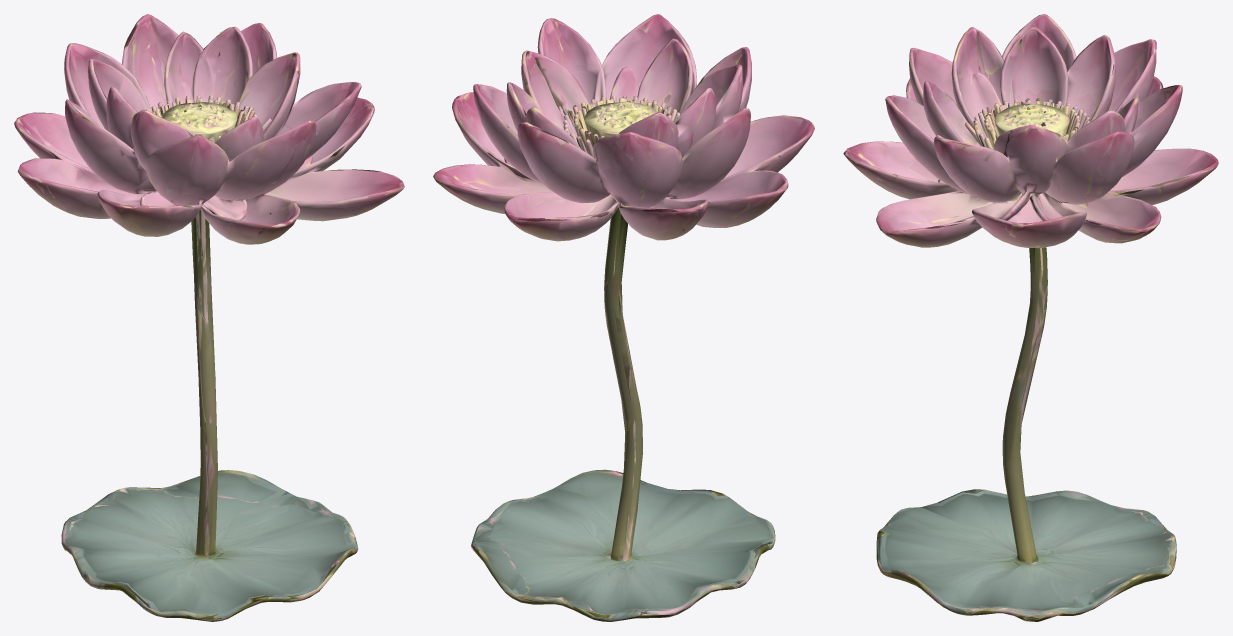
The model's file is lotus-compressed.glb.
3 views of the same model, side by side, from view 1: azimuth 30°, elevation 25°; view 2: azimuth 150°, elevation 25°; view 3: azimuth 270°, elevation 25° (orthographic).
Parts seen in each view (by area): view 1: node_0; view 2: node_0; view 3: node_0.
Boxes of the visible parts, <box> form: node_0: <box>14,14,404,621</box>; node_0: <box>433,14,814,621</box>; node_0: <box>843,14,1218,621</box>.
Bounding box in the file's own units: 0.358 × 0.4998 × 0.3433.
1 material, 1 textured.
